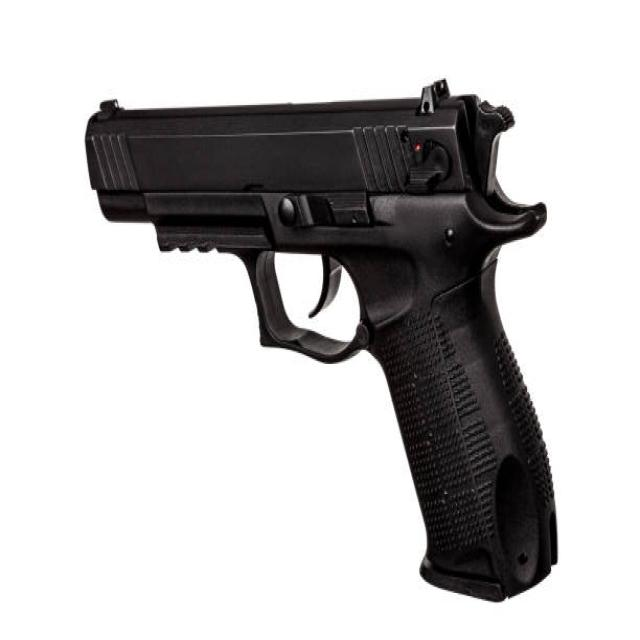pistol: (80, 72, 567, 607)
